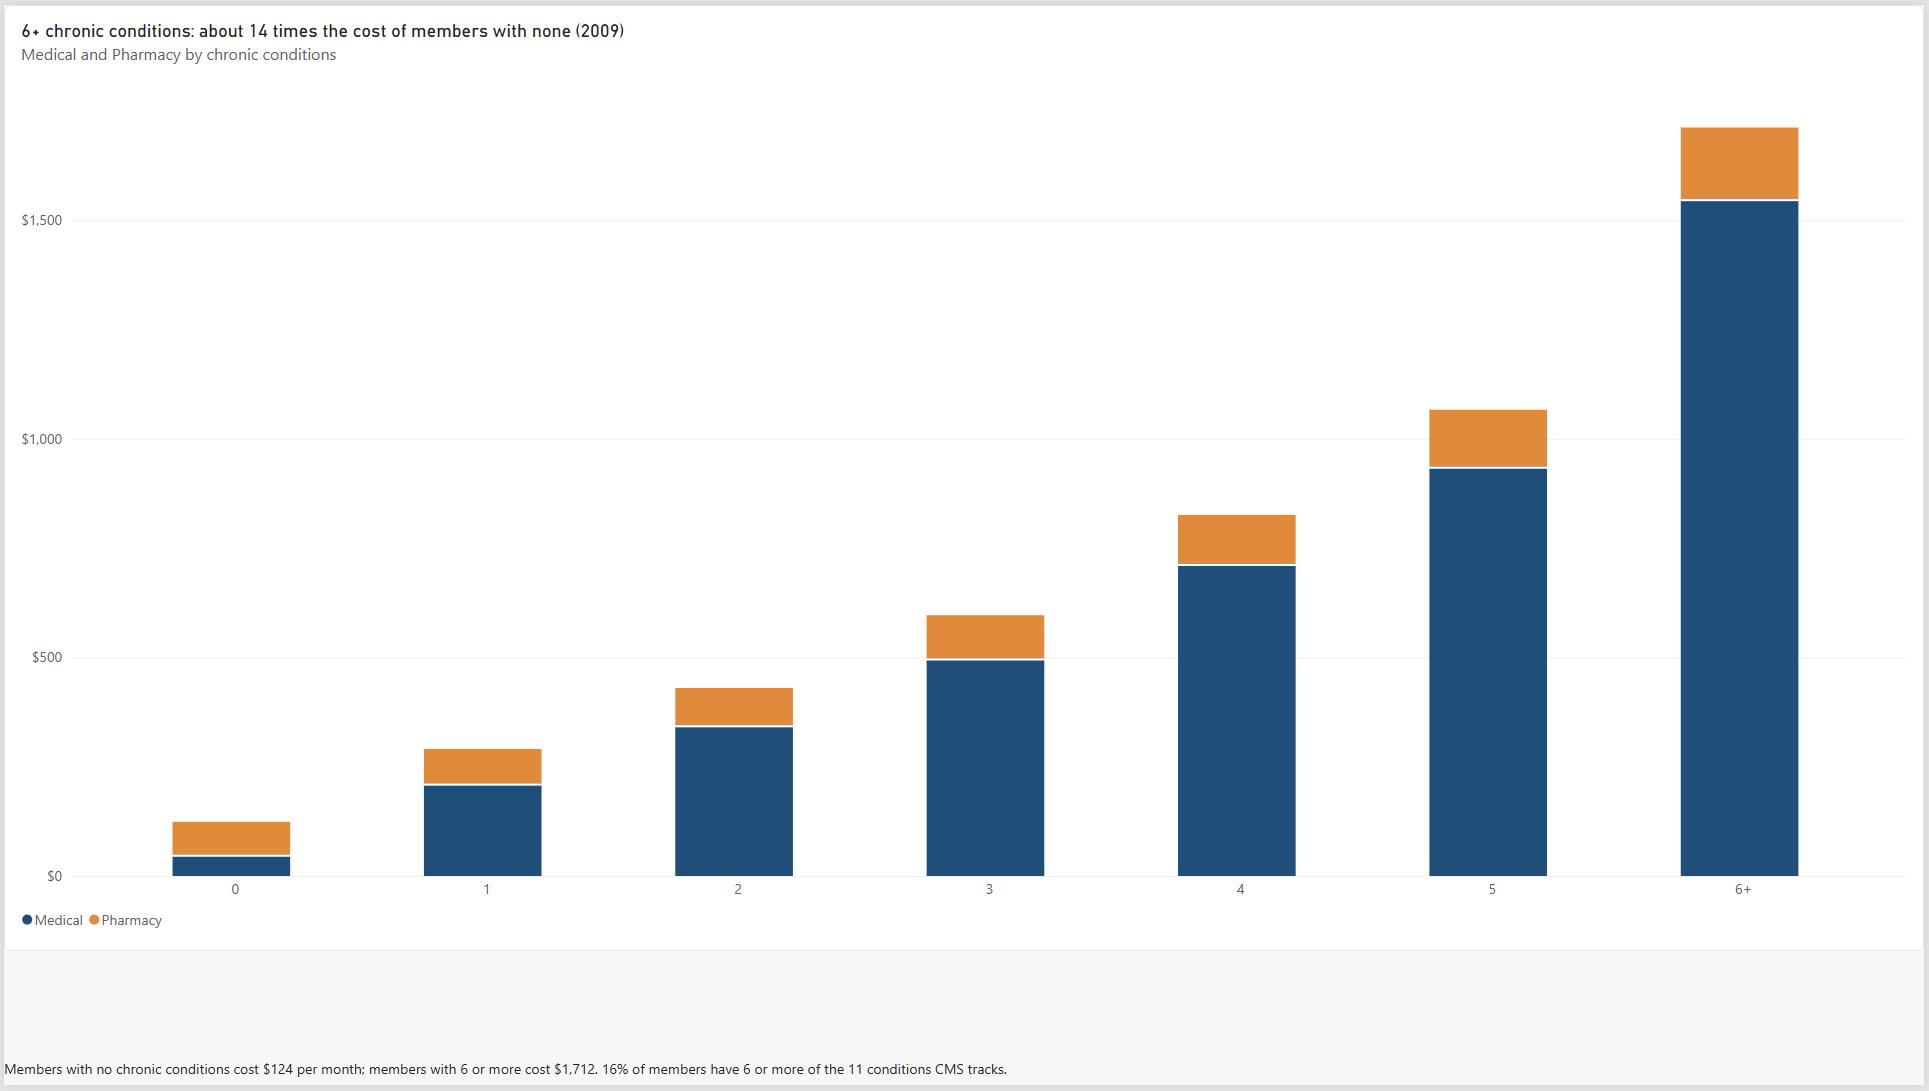

What the dashboard file says about the page in this screenshot:
{"tool":"powerbi","page":{"name":"Chronic Conditions","canvas":[1920,1080],"ordinal":3},"visuals":[{"type":"columnChart","title":"6+ chronic conditions: about 14 times the cost of members with none (2009)","fields":{"Category":["chronic.chronic_conditions"],"Y":["Sum(chronic.medical_pmpm)","Sum(chronic.pharmacy_pmpm)"]},"box":[0,0,1920,946],"z":0},{"type":"textbox","box":[0,1054,1056,26],"z":1}]}

Visuals, with their boxes in screenshot pixels (x1, y1, x2, y2), scaled from the page's 1920x1080 canvas onto the 1929x1091 screenshot:
"6+ chronic conditions: about 14 times the cost of members with none (2009)" columnChart: <box>0,0,1928,956</box>
textbox: <box>0,1065,1061,1090</box>
